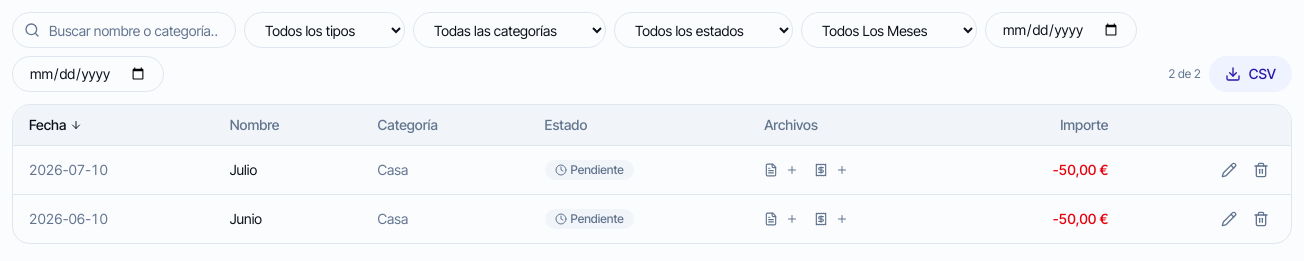
Test case: MovimientosTable › filtra por mes
Select "julio de 2026" in the dropdown named "Filtrar por mes": (889, 30) [801, 12, 977, 48]
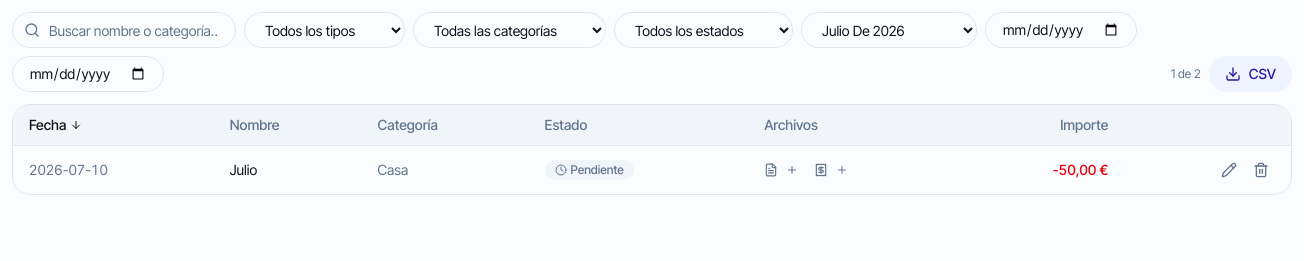
Check: the text "Julio" is shown, box [214, 146, 362, 194]
Check: the text "Junio" is gone
